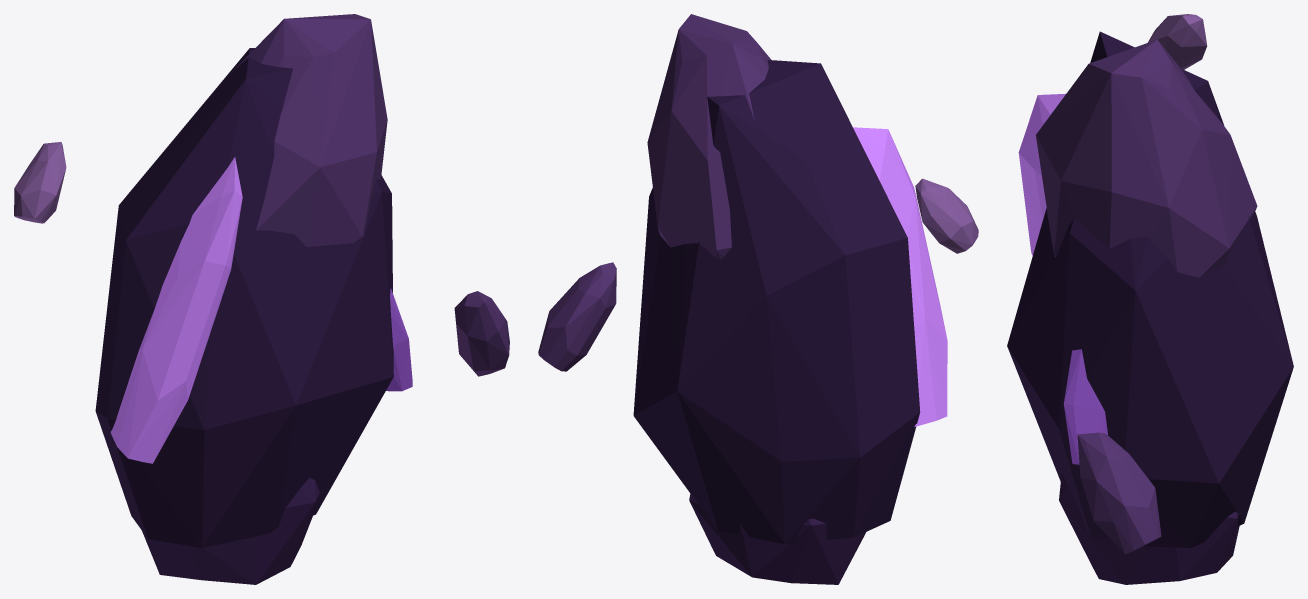
File: FSA_WORLD_ShadowStone.glb
The picture shows the model from 3 angles, left to right: view 1: azimuth 30°, elevation 25°; view 2: azimuth 150°, elevation 25°; view 3: azimuth 270°, elevation 25°; orthographic projection. The views are drawn at different scales.
Visible parts, largest first — view 1: Core, UpperFacet, BrightFracture, LowerFacet, SatelliteA, SatelliteB, EdgeFracture; view 2: Core, UpperFacet, BrightFracture, LowerFacet, SatelliteA, SatelliteB; view 3: Core, UpperFacet, SatelliteA, LowerFacet, BrightFracture, EdgeFracture, SatelliteB.
Boxes of the visible parts, left/top/right/bottom form: Core: left=95, top=48, right=393, bottom=547; UpperFacet: left=229, top=14, right=387, bottom=246; BrightFracture: left=110, top=157, right=242, bottom=463; LowerFacet: left=142, top=478, right=319, bottom=584; SatelliteA: left=454, top=291, right=509, bottom=376; SatelliteB: left=14, top=142, right=66, bottom=223; EdgeFracture: left=386, top=288, right=412, bottom=391; Core: left=633, top=60, right=920, bottom=544; UpperFacet: left=647, top=14, right=771, bottom=259; BrightFracture: left=853, top=127, right=947, bottom=426; LowerFacet: left=689, top=493, right=865, bottom=584; SatelliteA: left=538, top=262, right=616, bottom=371; SatelliteB: left=915, top=178, right=978, bottom=253; Core: left=1007, top=31, right=1293, bottom=547; UpperFacet: left=1036, top=39, right=1257, bottom=277; SatelliteA: left=1077, top=432, right=1161, bottom=554; LowerFacet: left=1059, top=472, right=1239, bottom=584; BrightFracture: left=1018, top=93, right=1065, bottom=255; EdgeFracture: left=1063, top=349, right=1107, bottom=464; SatelliteB: left=1147, top=14, right=1207, bottom=69.
Bounding box in the file's own units: 1.95 × 2.11 × 0.98.
